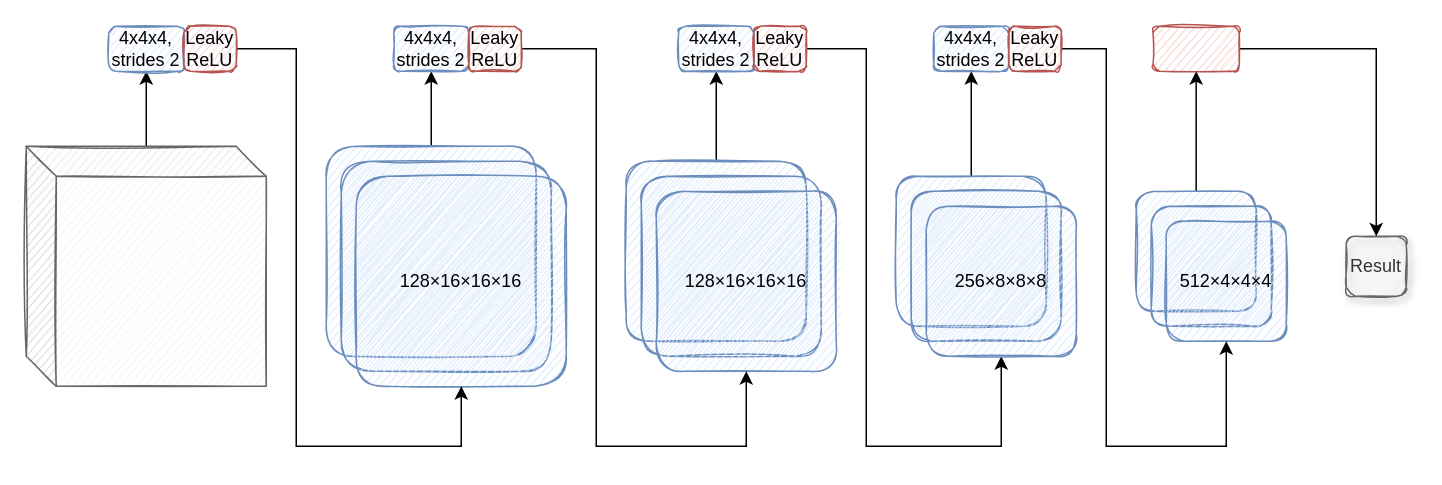
This 1442x485 diagram has some shape labels left out. The shapes that lost their labels are listed below. From the top down, each one's centre as x and y in pixels, then its label:
(1195,48): Sigmoid
(145,265): 3D Voxel Space 64×64×64
